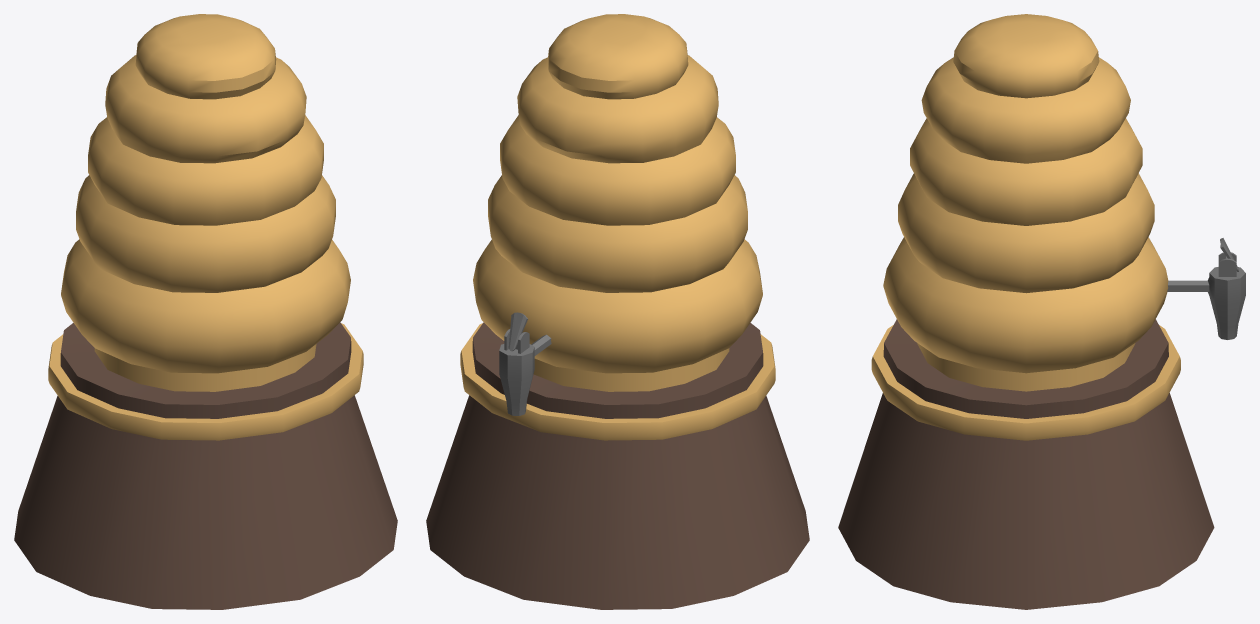
Rendered from HoneyDispenser.fbx.
3 renders of one model, left to right at view 1: azimuth 30°, elevation 25°; view 2: azimuth 150°, elevation 25°; view 3: azimuth 270°, elevation 25°, orthographic.
Visible parts, largest first — view 1: Lever; view 2: Lever; view 3: Lever.
Part boxes in pixels (<box>): Lever: <box>14,14,397,609</box>; Lever: <box>426,14,809,609</box>; Lever: <box>838,14,1245,609</box>.
Size of the model in its own units: 125 by 175 by 131.
